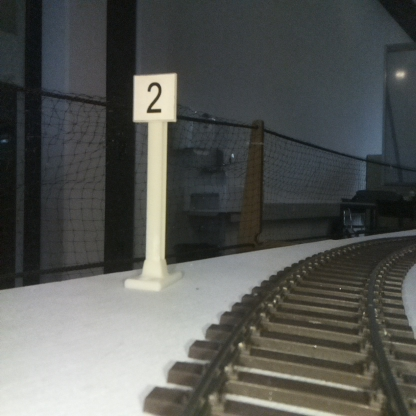white-info-2: (134, 75, 175, 288)
